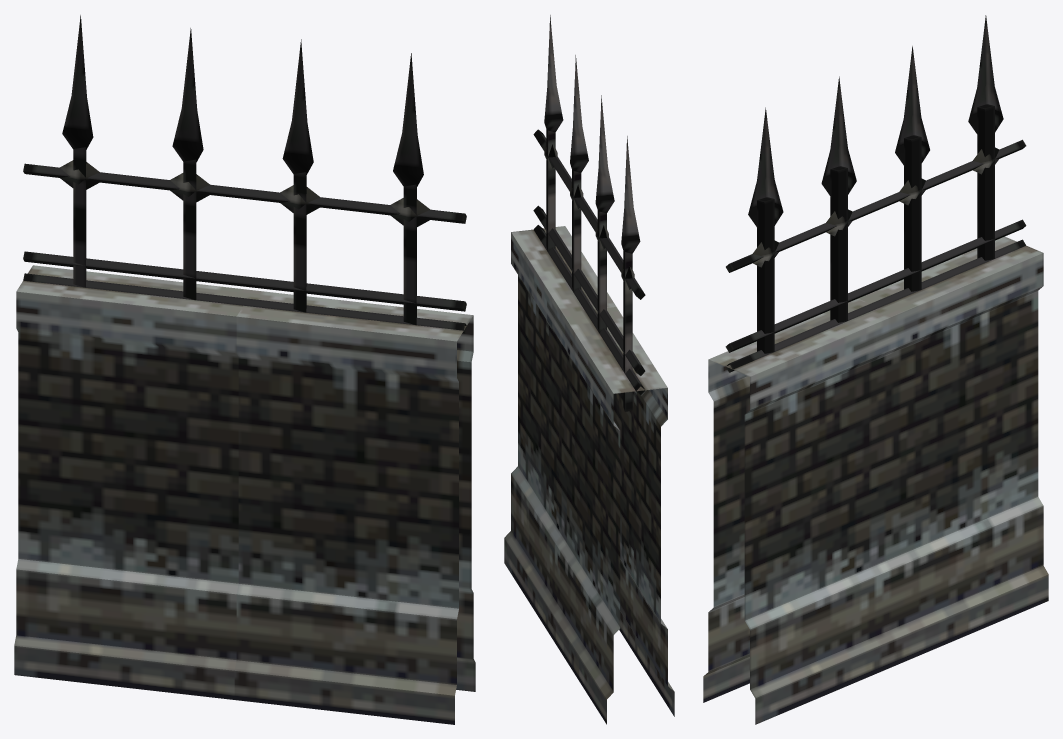
The model's file is EnvBdgMD_Snow_Seidoukikan_A_GrdWall_SL_RF.FBX.
3 views of the same model, side by side, from view 1: azimuth 30°, elevation 25°; view 2: azimuth 150°, elevation 25°; view 3: azimuth 270°, elevation 25° (orthographic). The views are drawn at different scales.
Visible parts, largest first — view 1: EnvBdgMD_Snow_Seidoukikan_A_GrdWall_SL_RF; view 2: EnvBdgMD_Snow_Seidoukikan_A_GrdWall_SL_RF; view 3: EnvBdgMD_Snow_Seidoukikan_A_GrdWall_SL_RF.
Boxes of the visible parts, x1,y1,x2,y2 form: EnvBdgMD_Snow_Seidoukikan_A_GrdWall_SL_RF: (14, 15, 475, 724); EnvBdgMD_Snow_Seidoukikan_A_GrdWall_SL_RF: (504, 15, 674, 724); EnvBdgMD_Snow_Seidoukikan_A_GrdWall_SL_RF: (703, 15, 1048, 724).
Bounding box in the file's own units: 235 × 445 × 235.
Materials: 1 (1 with a texture image).
